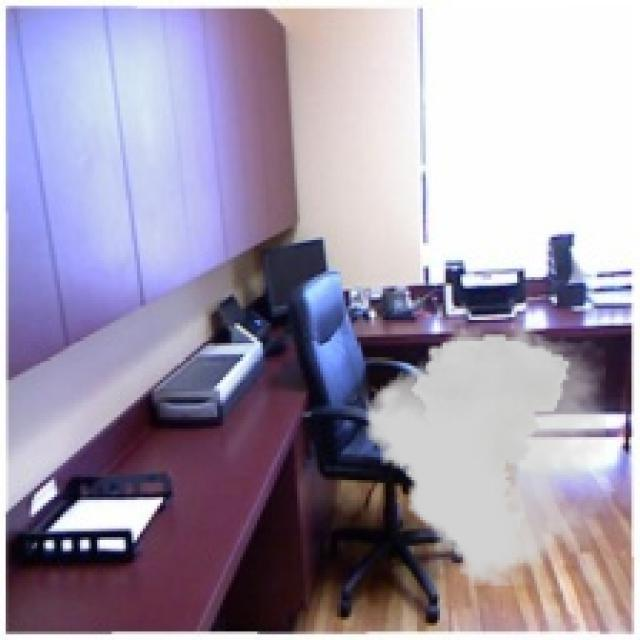Smoke: (366, 323, 606, 586)
